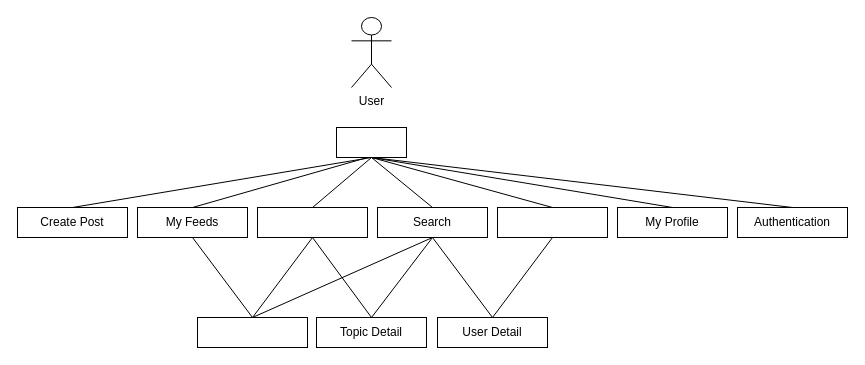
Image size: 865x365. Some labels were removed from this diagram. Each missing label, with the box of its shape:
Home: (336, 126, 406, 158)
Post Detail: (196, 316, 308, 348)
Trending Posts: (256, 206, 368, 238)
User Ranking: (496, 206, 608, 238)
